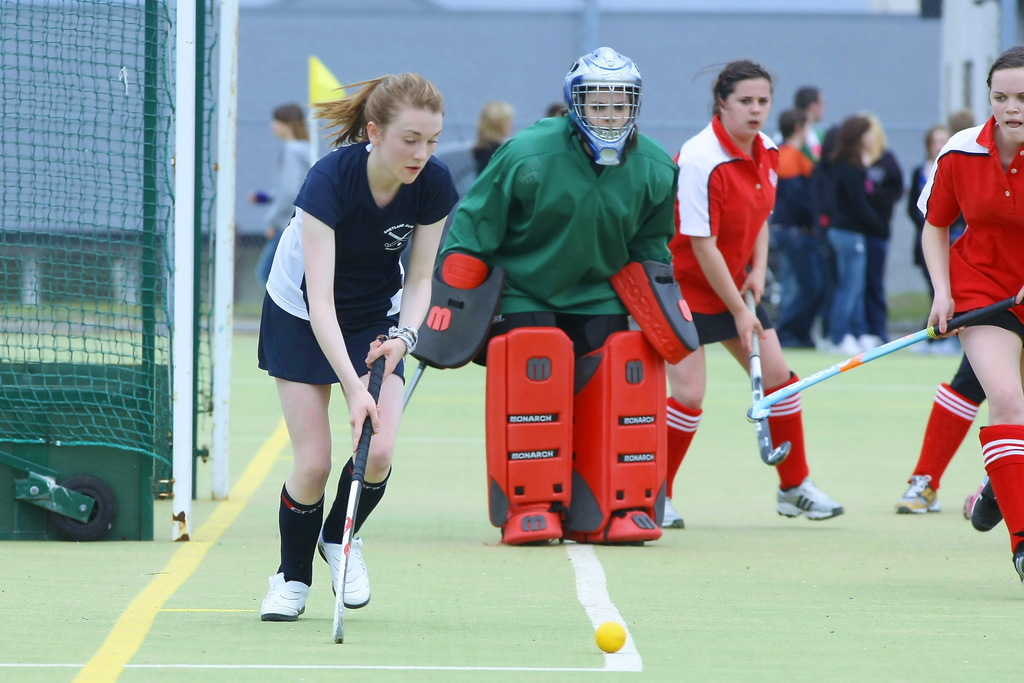Person: (247, 44, 1023, 621)
